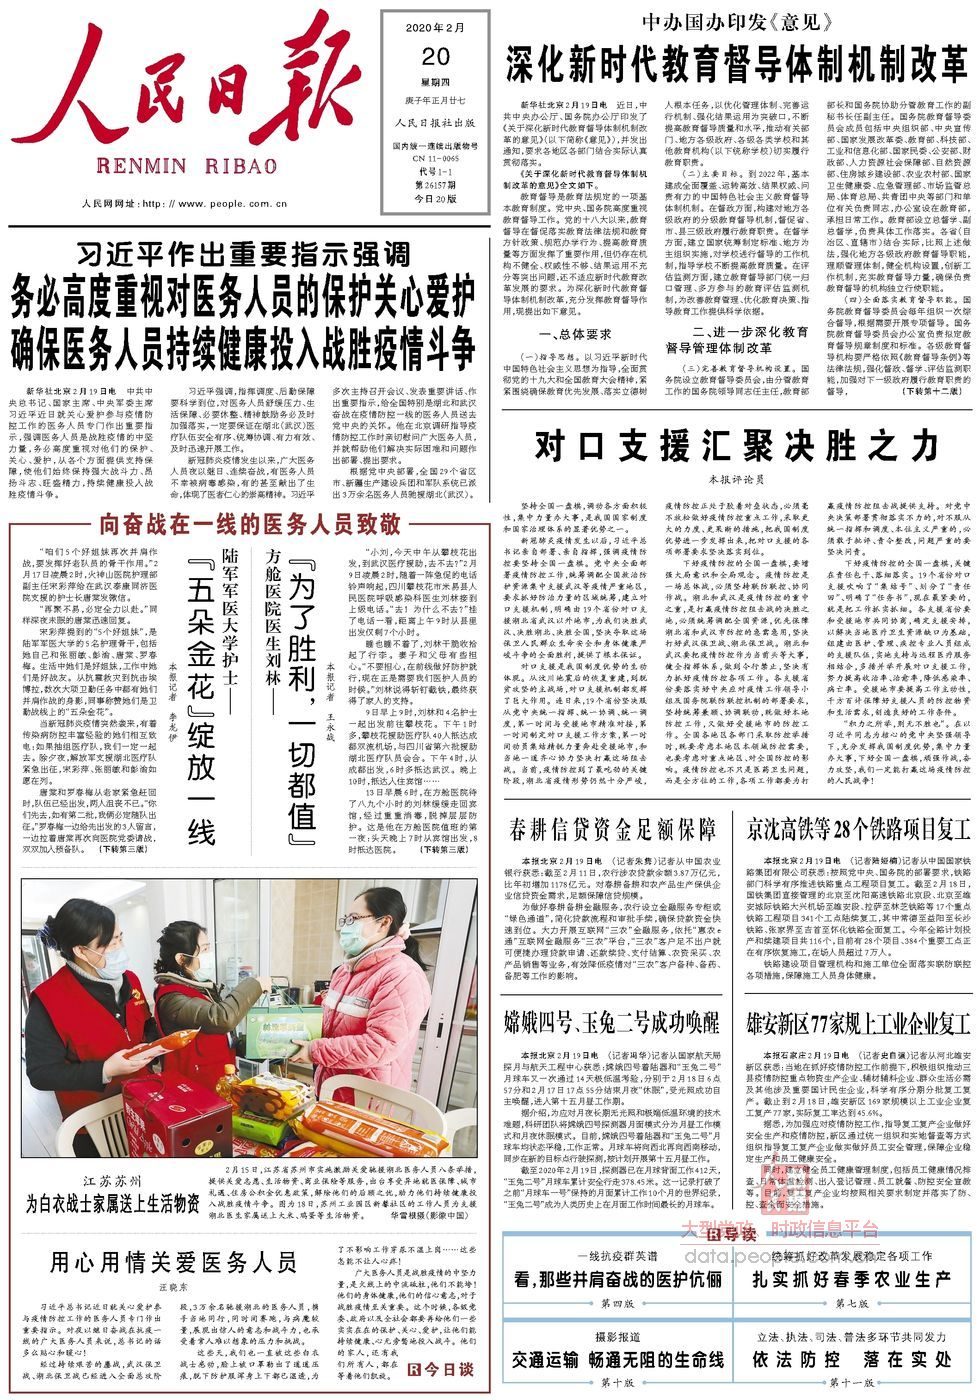pic: (17, 874, 484, 1162)
